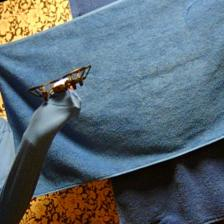drone: (29, 65, 90, 98)
